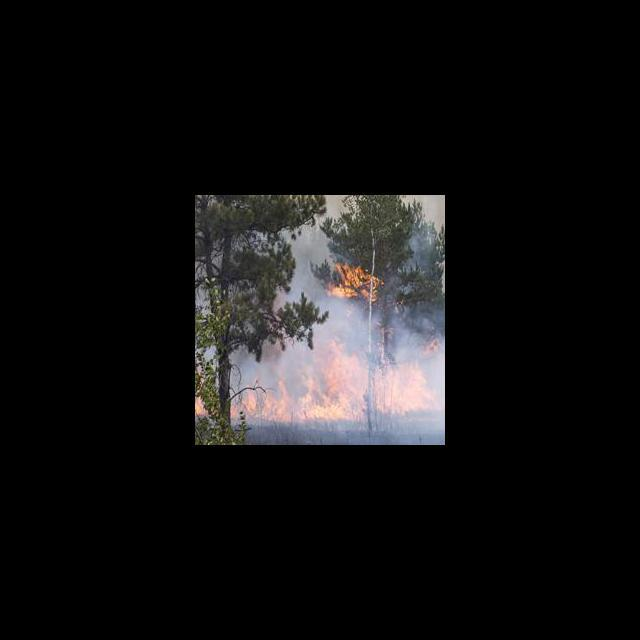Fire: (196, 338, 442, 424), (320, 255, 381, 304)
